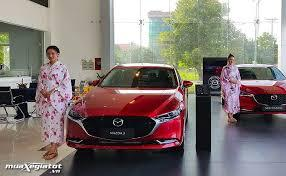mazda: (106, 113, 129, 129)
